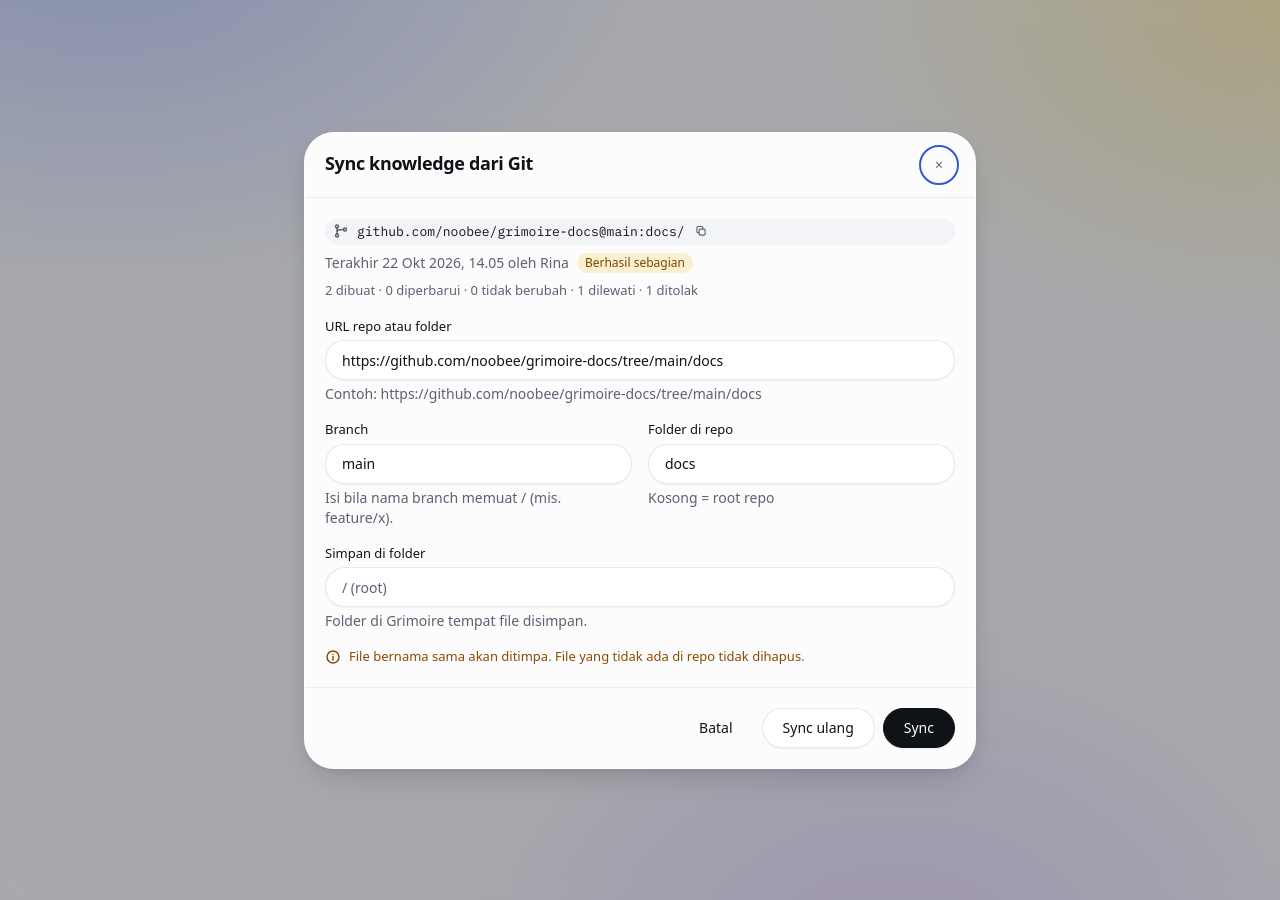
GitSyncDialog › INVALID_REPO_URL field=branch marks the Branch field
Expected: the field showing "grimoire-docs" is shown, x1=325 y1=340 x2=955 y2=380
Click the button "Sync": x=919, y=728 x1=883 y1=708 x2=955 y2=748
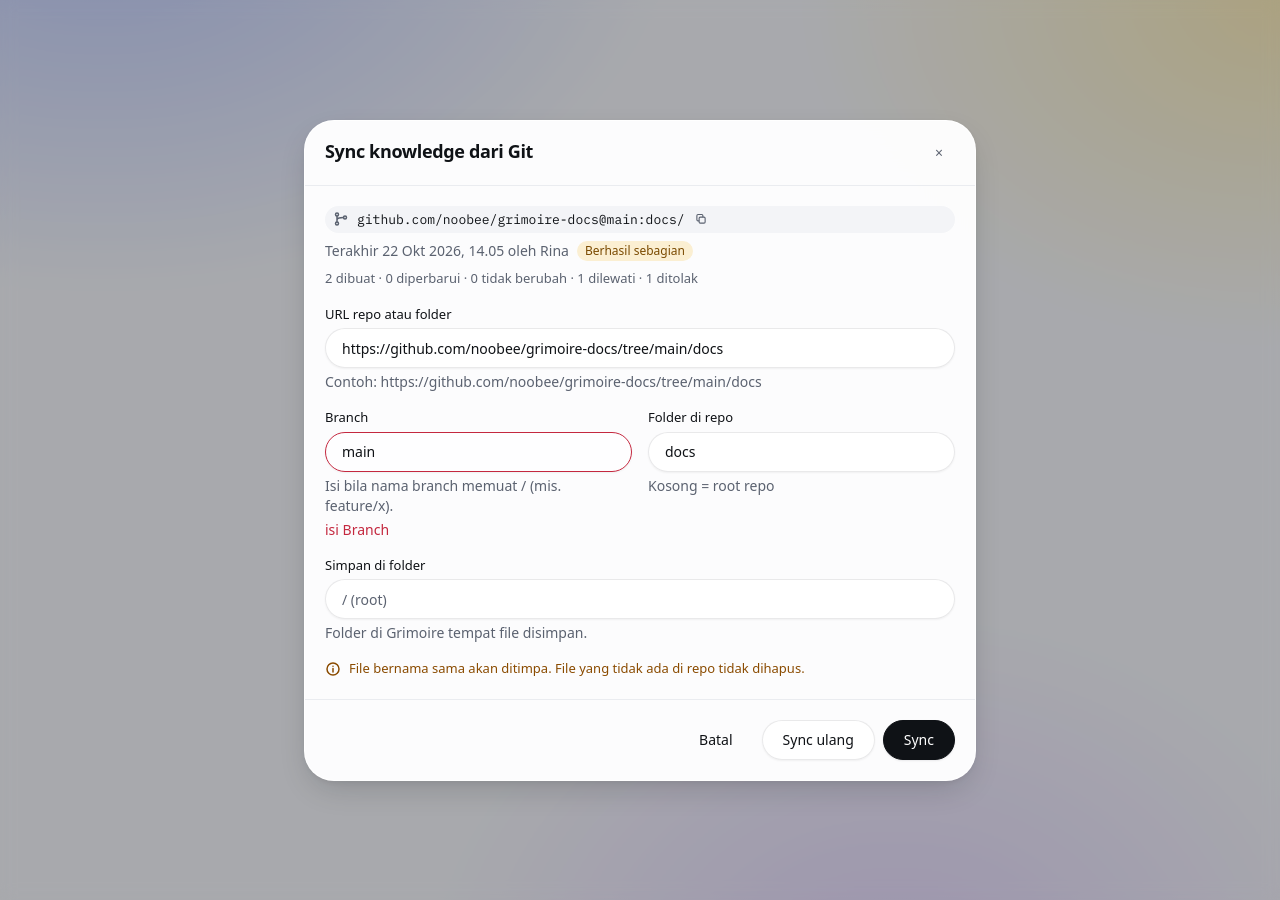
Expected: the text "isi Branch" is shown, x1=325 y1=520 x2=389 y2=538
